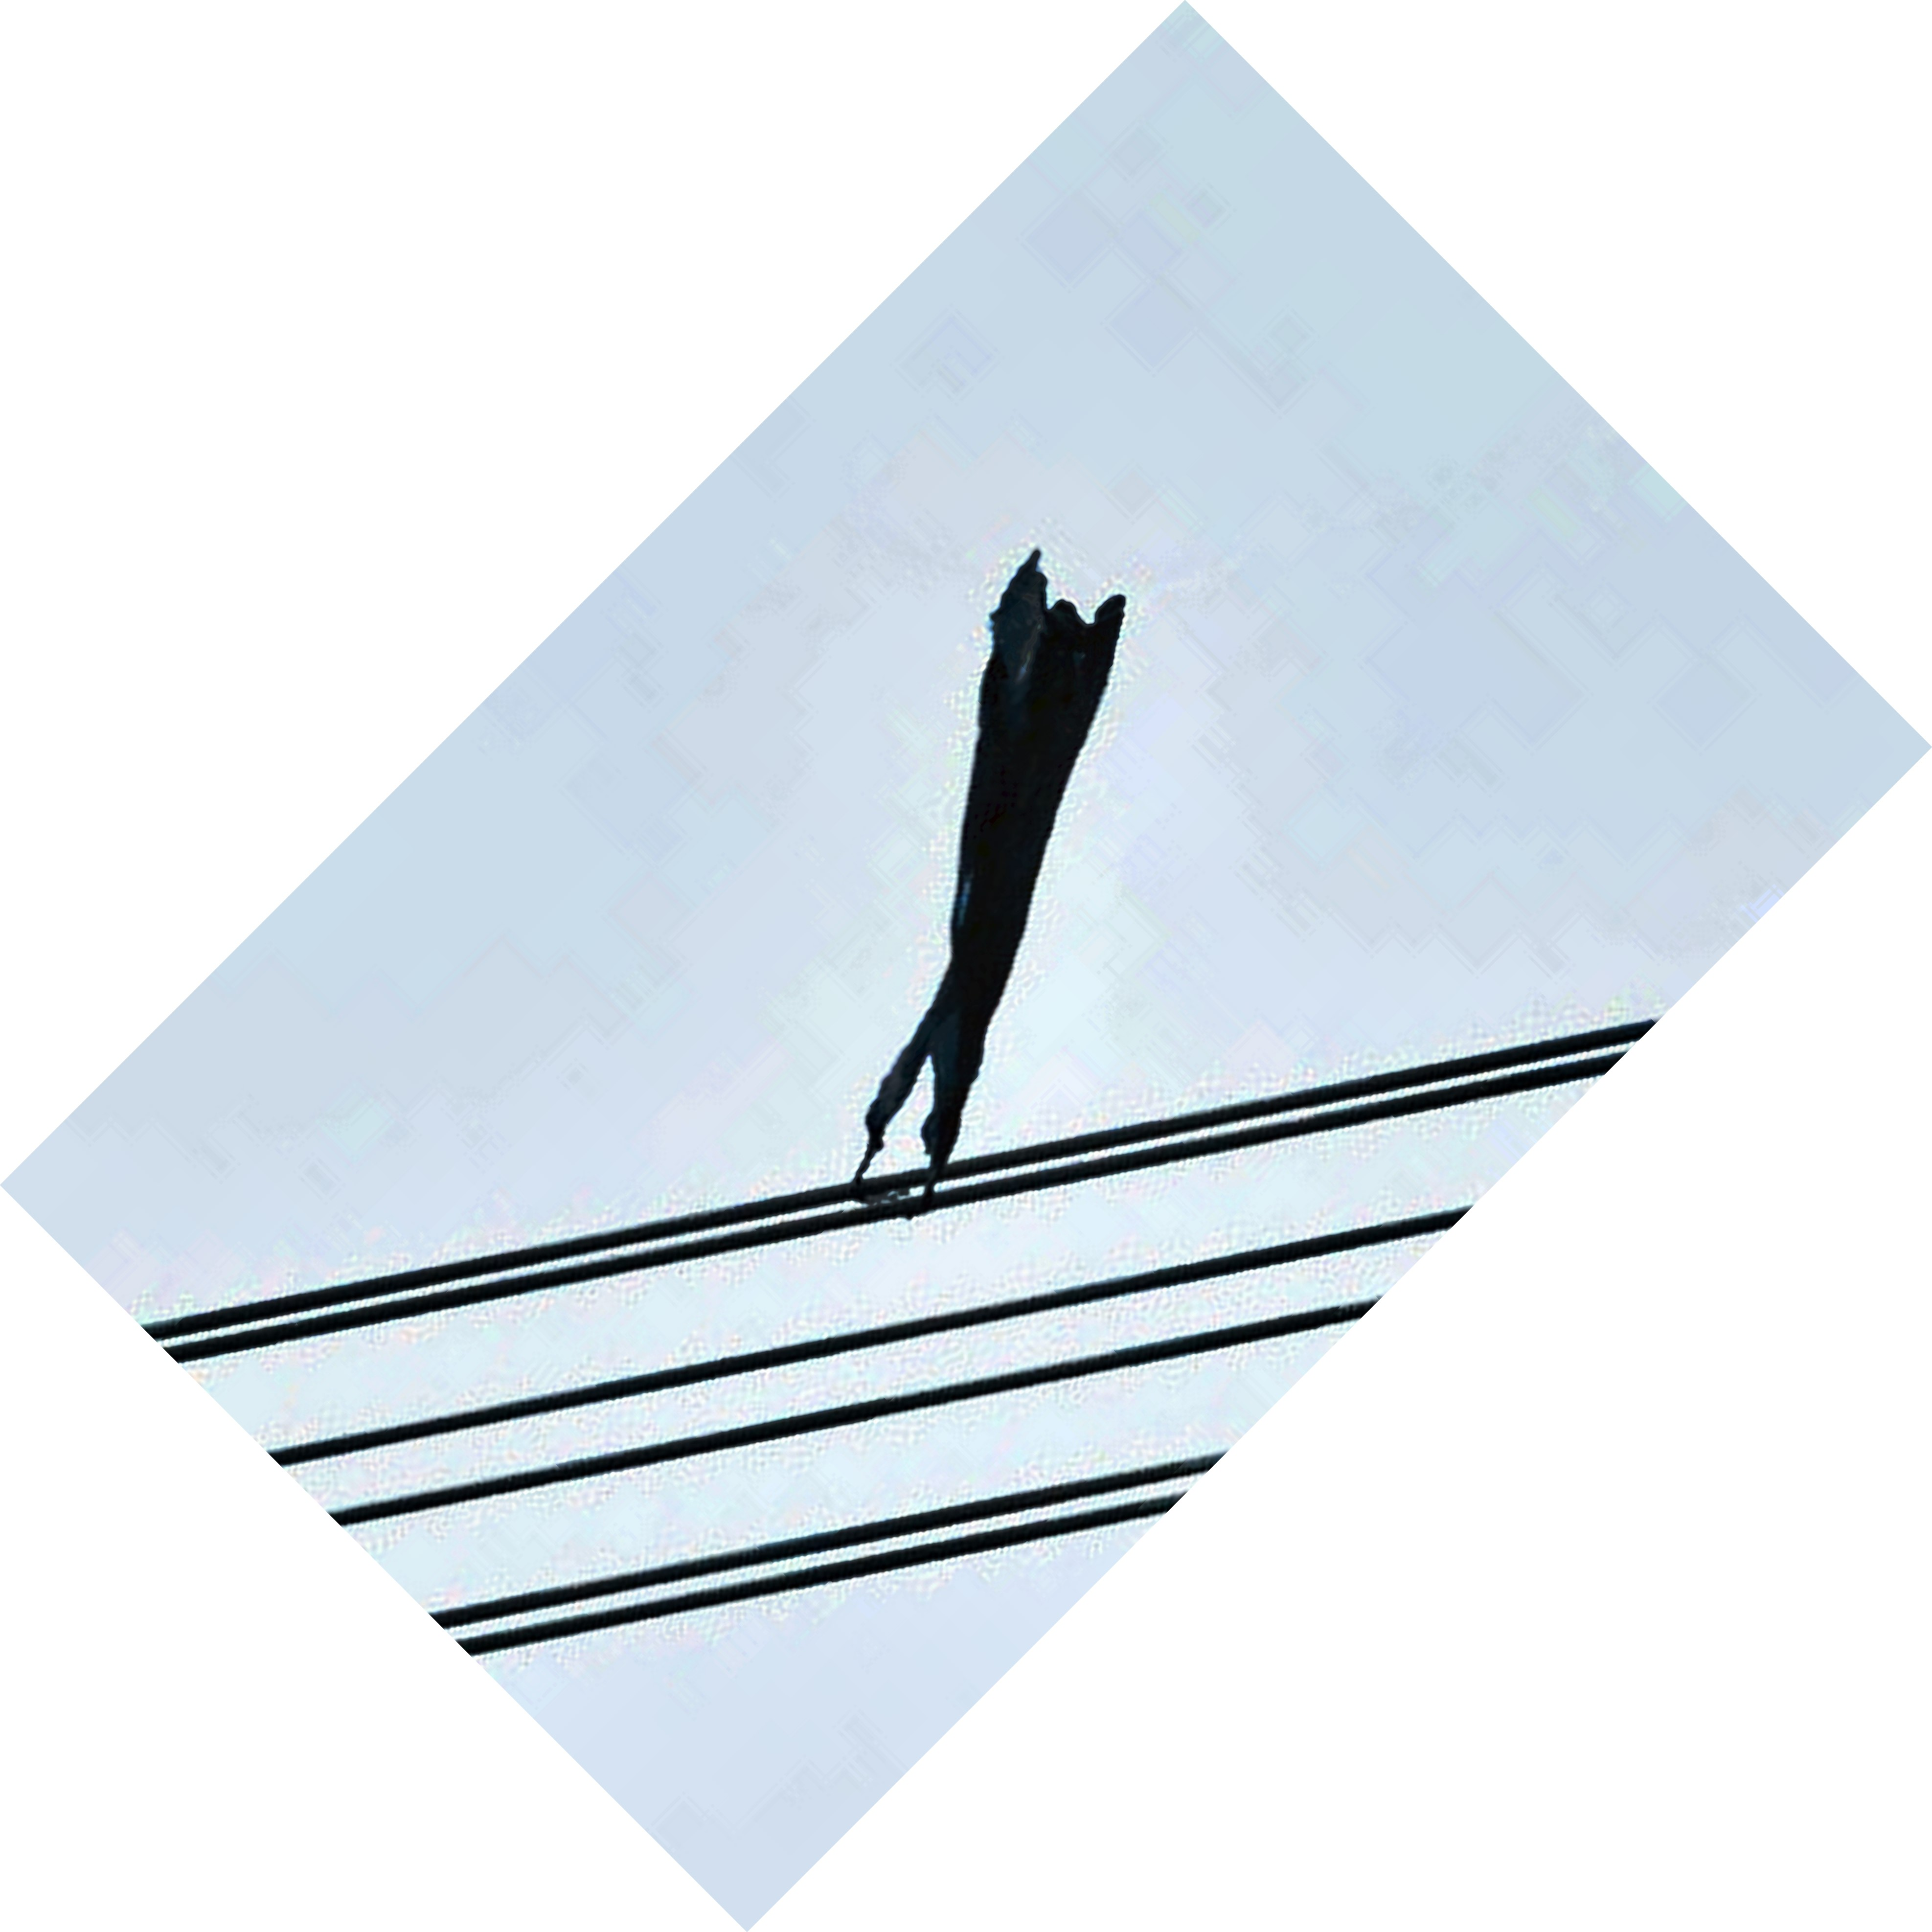wire foreign body: (828, 510, 1166, 1261)
